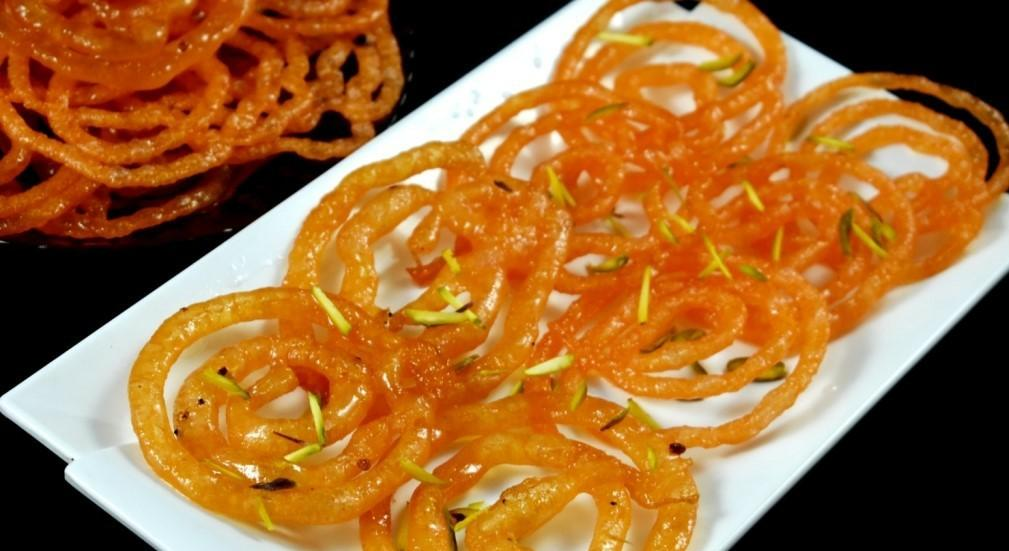Jalebi: (128, 0, 1009, 551)
